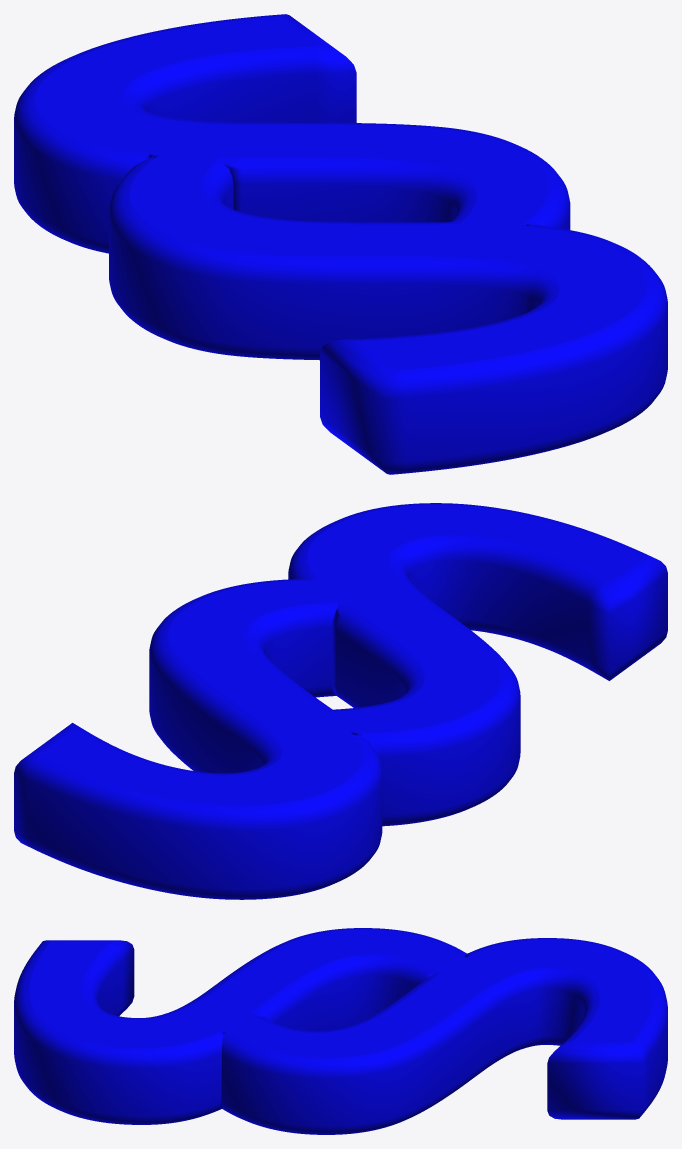
3 views of the same model, one above another, from view 1: azimuth 30°, elevation 25°; view 2: azimuth 150°, elevation 25°; view 3: azimuth 270°, elevation 25° (orthographic). The views are drawn at different scales.
Visible parts, largest first — view 1: 167; view 2: 167; view 3: 167.
Boxes of the visible parts, x1,y1,x2,y2 form: 167: (14, 14, 667, 474); 167: (14, 503, 667, 899); 167: (14, 928, 667, 1134).
Bounding box in the file's own units: 0.6427 × 0.16 × 1.25.
